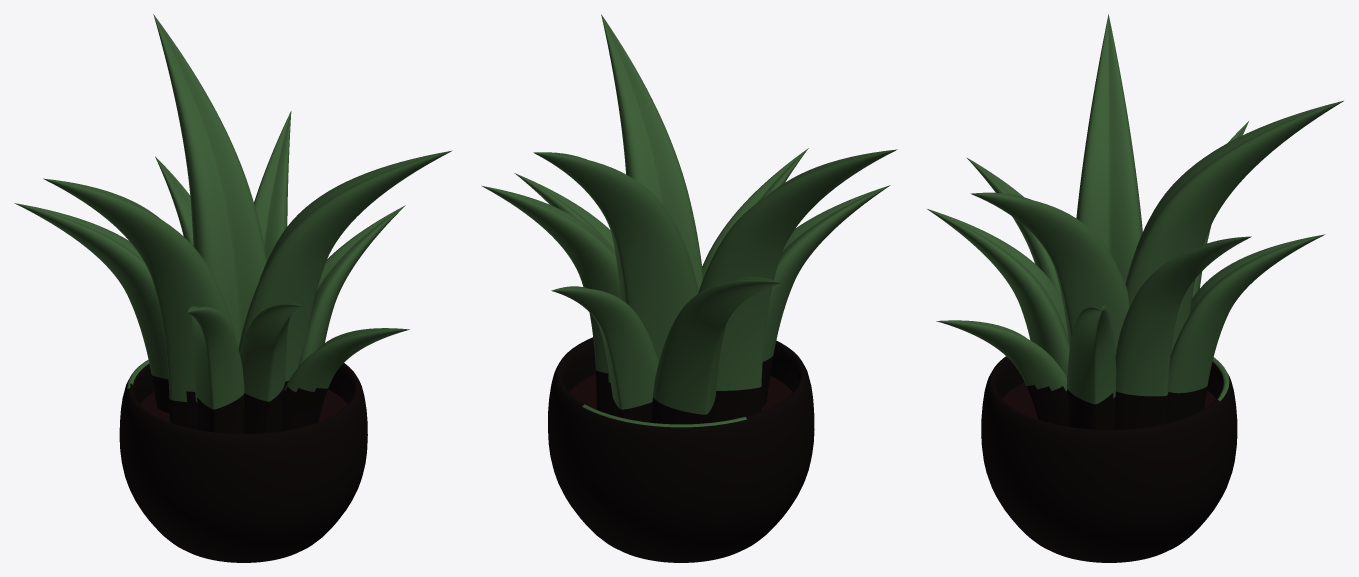
Rendered from plant.fbx.
3 renders of one model, left to right at view 1: azimuth 30°, elevation 25°; view 2: azimuth 150°, elevation 25°; view 3: azimuth 270°, elevation 25°, orthographic. The views are drawn at different scales.
Parts seen in each view (by area): view 1: Vert.001, NurbsPath.002, NurbsPath, NurbsPath.003, NurbsPath.001, NurbsPath.009, NurbsPath.004, NurbsPath.006, NurbsPath.007, NurbsPath.005, NurbsPath.008, Circle; view 2: Vert.001, NurbsPath, NurbsPath.002, NurbsPath.001, NurbsPath.003, NurbsPath.008, NurbsPath.005, NurbsPath.009, NurbsPath.004, NurbsPath.007, Circle; view 3: Vert.001, NurbsPath.002, NurbsPath.005, NurbsPath, NurbsPath.003, NurbsPath.008, NurbsPath.004, NurbsPath.007, NurbsPath.006, NurbsPath.009, Circle.
Part boxes in pixels (x1=…): Vert.001: x1=119, y1=359, x2=367, y2=562; NurbsPath.002: x1=153, y1=14, x2=266, y2=348; NurbsPath: x1=43, y1=178, x2=234, y2=429; NurbsPath.003: x1=238, y1=150, x2=452, y2=387; NurbsPath.001: x1=14, y1=203, x2=169, y2=413; NurbsPath.009: x1=187, y1=306, x2=245, y2=433; NurbsPath.004: x1=240, y1=302, x2=301, y2=433; NurbsPath.006: x1=281, y1=328, x2=409, y2=431; NurbsPath.007: x1=298, y1=205, x2=405, y2=366; NurbsPath.005: x1=254, y1=111, x2=291, y2=260; NurbsPath.008: x1=155, y1=156, x2=193, y2=245; Circle: x1=140, y1=389, x2=347, y2=422; Vert.001: x1=548, y1=337, x2=814, y2=562; NurbsPath: x1=698, y1=149, x2=897, y2=422; NurbsPath.002: x1=533, y1=152, x2=698, y2=361; NurbsPath.001: x1=651, y1=276, x2=781, y2=424; NurbsPath.003: x1=601, y1=14, x2=703, y2=290; NurbsPath.008: x1=551, y1=286, x2=658, y2=422; NurbsPath.005: x1=481, y1=185, x2=620, y2=415; NurbsPath.009: x1=761, y1=185, x2=890, y2=407; NurbsPath.004: x1=702, y1=148, x2=808, y2=277; NurbsPath.007: x1=514, y1=173, x2=615, y2=255; Circle: x1=569, y1=373, x2=792, y2=411; Vert.001: x1=981, y1=356, x2=1237, y2=562; NurbsPath.002: x1=1125, y1=100, x2=1343, y2=354; NurbsPath.005: x1=1114, y1=236, x2=1251, y2=429; NurbsPath: x1=1076, y1=14, x2=1142, y2=283; NurbsPath.003: x1=970, y1=192, x2=1129, y2=356; NurbsPath.008: x1=1168, y1=234, x2=1325, y2=422; NurbsPath.004: x1=927, y1=209, x2=1069, y2=376; NurbsPath.007: x1=1067, y1=306, x2=1116, y2=429; NurbsPath.006: x1=936, y1=320, x2=1068, y2=426; NurbsPath.009: x1=966, y1=157, x2=1061, y2=296; Circle: x1=1002, y1=382, x2=1216, y2=419.
Bounding box in the file's own units: 524 × 610 × 511.
